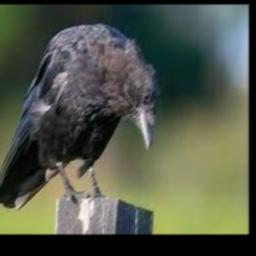Crow: (0, 23, 158, 211)
